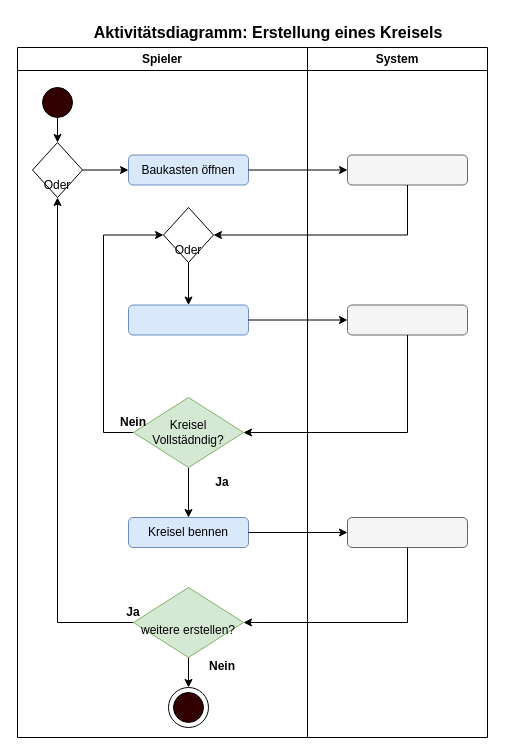
This 505x755 diagram has some shape labels left out. Here are the shapes that lost their labels. From the top down, the centre of each, then its label:
At point (407, 169): "Teile Anzeigen".
At point (188, 319): "Einzelteile wählen".
At point (407, 319): "Kreiselwerte anzeigen".
At point (407, 532): "Kreisel speichern".
